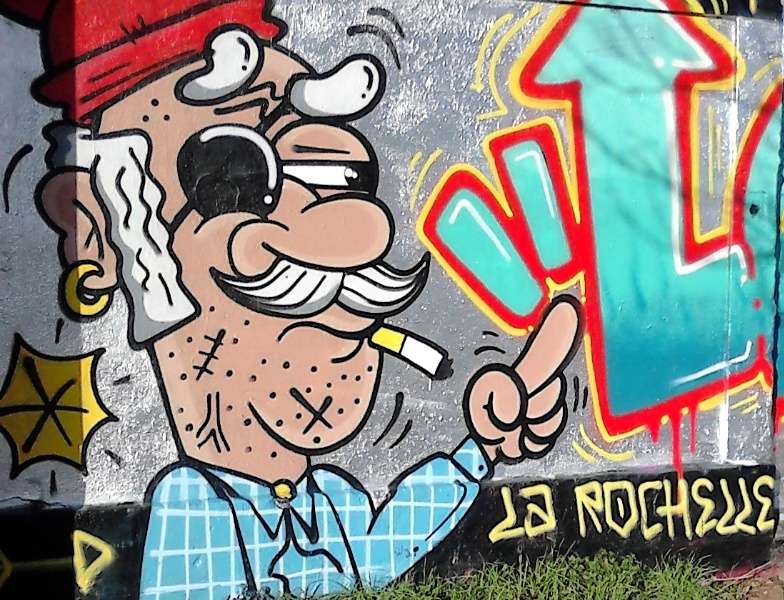text: (577, 472, 592, 541), (593, 472, 608, 541), (609, 472, 624, 541), (625, 472, 640, 541), (641, 472, 656, 541), (657, 472, 672, 541), (673, 472, 688, 541), (689, 472, 704, 541), (705, 472, 720, 541), (721, 472, 736, 541), (737, 472, 752, 541), (753, 472, 768, 541), (497, 481, 512, 548), (513, 481, 528, 548), (529, 481, 544, 548), (545, 481, 559, 548), (769, 472, 780, 541), (567, 472, 576, 541), (490, 481, 496, 548)
